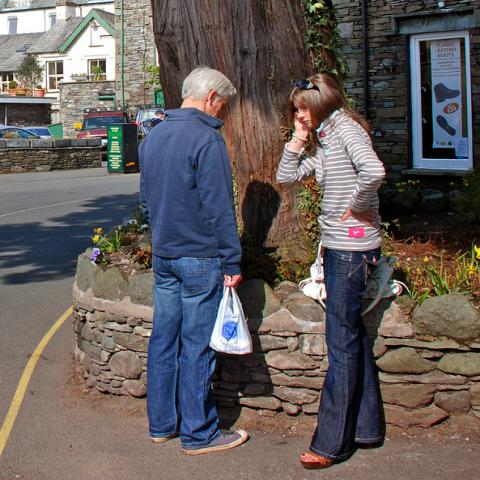car: (135, 104, 165, 147), (0, 126, 43, 138), (24, 126, 54, 138)
truck: (76, 107, 128, 146)
